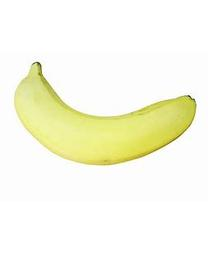banana: (13, 60, 198, 166)
